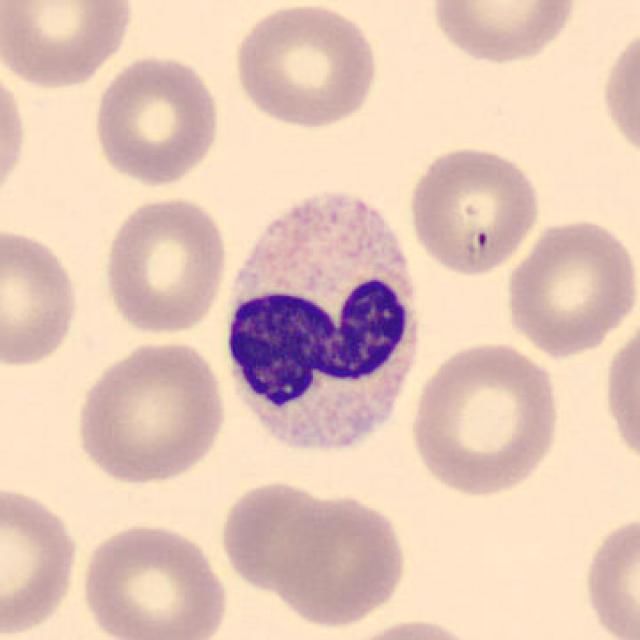Neutrophil: (210, 176, 432, 469)
RBC: (406, 337, 566, 499), (71, 335, 229, 487), (268, 490, 411, 630), (502, 213, 638, 360), (229, 0, 382, 130), (98, 192, 231, 337), (404, 142, 544, 278), (89, 51, 226, 189), (77, 518, 231, 640), (215, 474, 343, 596), (0, 479, 82, 636), (0, 0, 139, 92), (0, 222, 84, 370), (427, 0, 581, 67), (580, 508, 638, 640), (599, 309, 640, 476), (598, 16, 638, 169), (0, 58, 32, 210), (334, 615, 489, 640)
